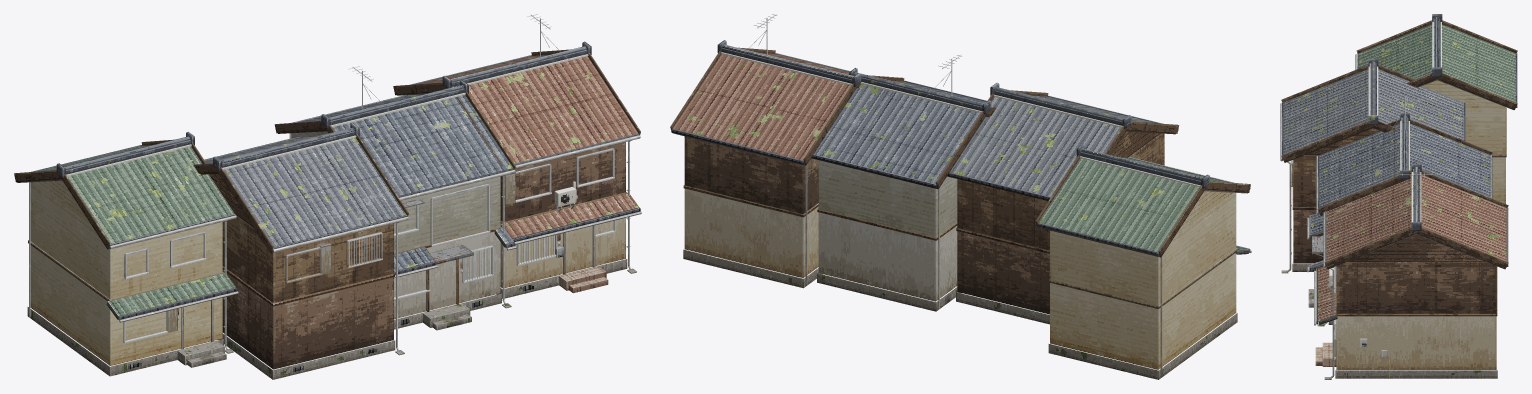
File: lane_nw.glb
3 views of the same model, side by side, from view 1: azimuth 30°, elevation 25°; view 2: azimuth 150°, elevation 25°; view 3: azimuth 270°, elevation 25° (orthographic). The views are drawn at different scales.
Parts seen in each view (by area): view 1: lane_nw; view 2: lane_nw; view 3: lane_nw.
Boxes of the visible parts, x1,y1,x2,y2 form: lane_nw: [14, 14, 641, 379]; lane_nw: [670, 14, 1251, 379]; lane_nw: [1280, 14, 1517, 379].
Bounding box in the file's own units: 22.09 × 9.17 × 10.37.
1 material, 1 textured.
